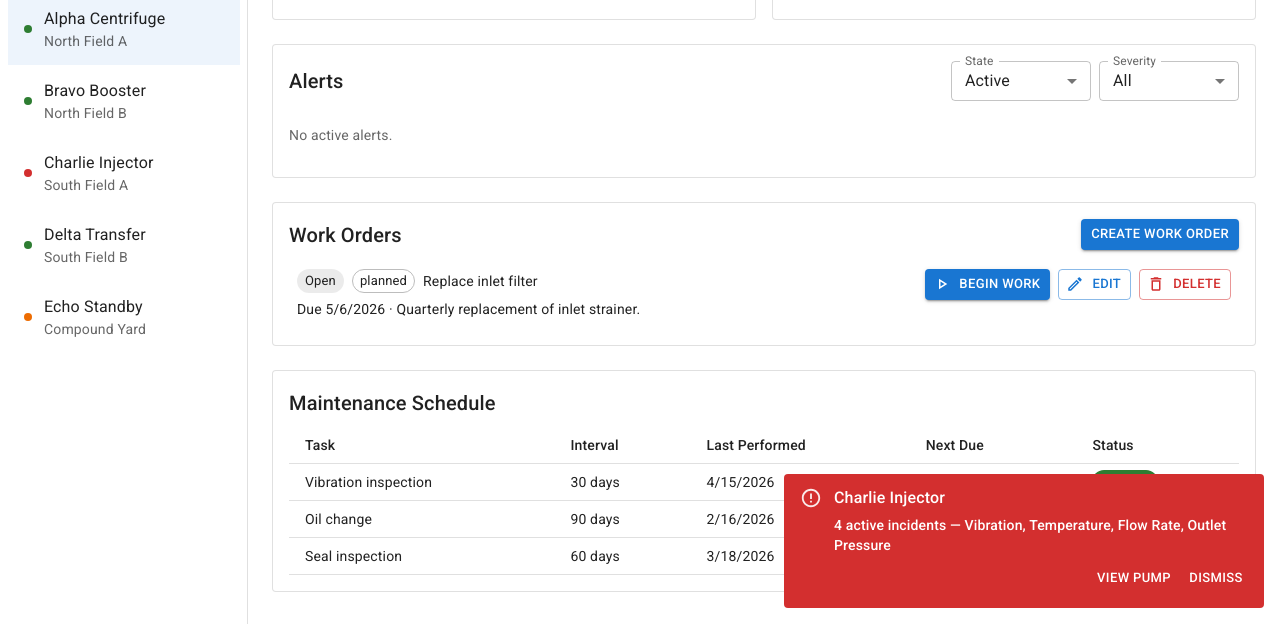
Test: Fleet integration › edits an existing work order
(page scrolled)
Click the button named "edit-".
click(1095, 284)  # box [1058,269,1131,300]
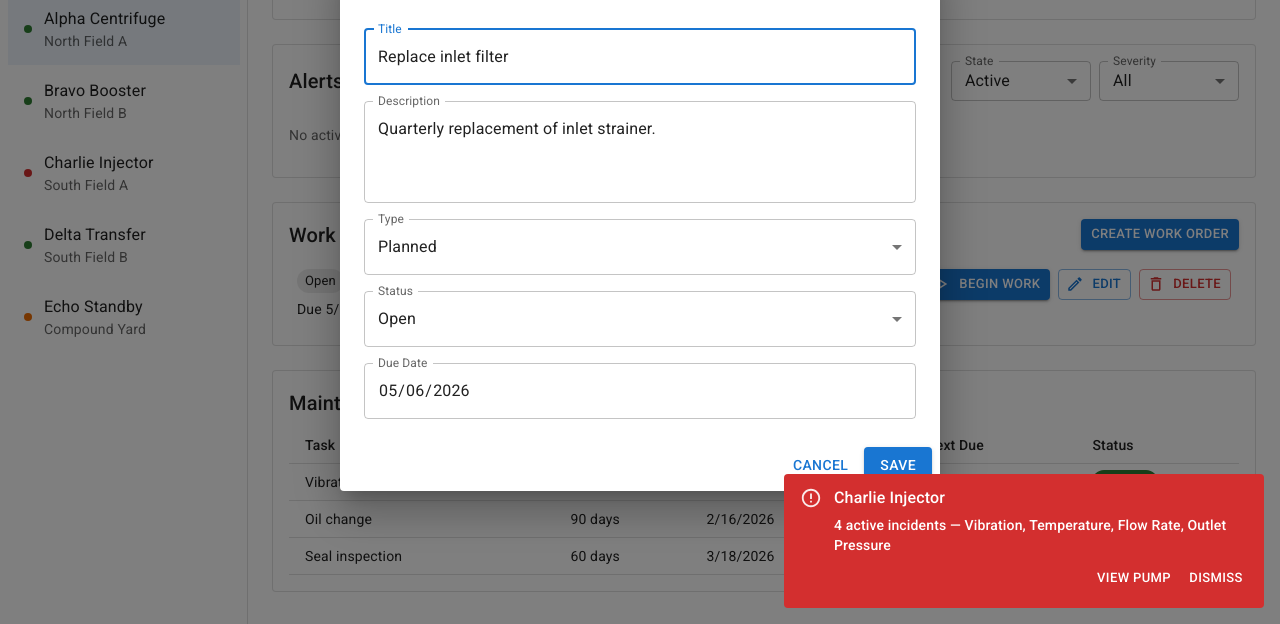
Replace the text in the field named "wo-title" with "Replace inlet filter v2" at (640, 57), box [364,29,916,85]
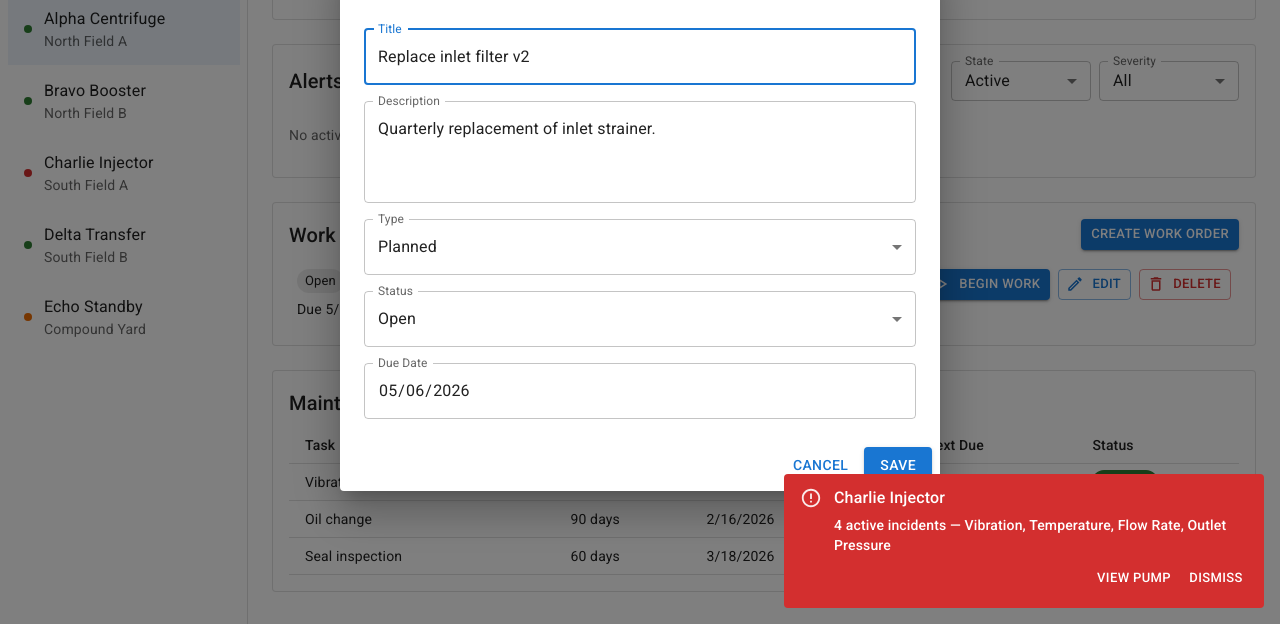
Click the button "Save".
click(898, 465)  # box [864,447,932,483]
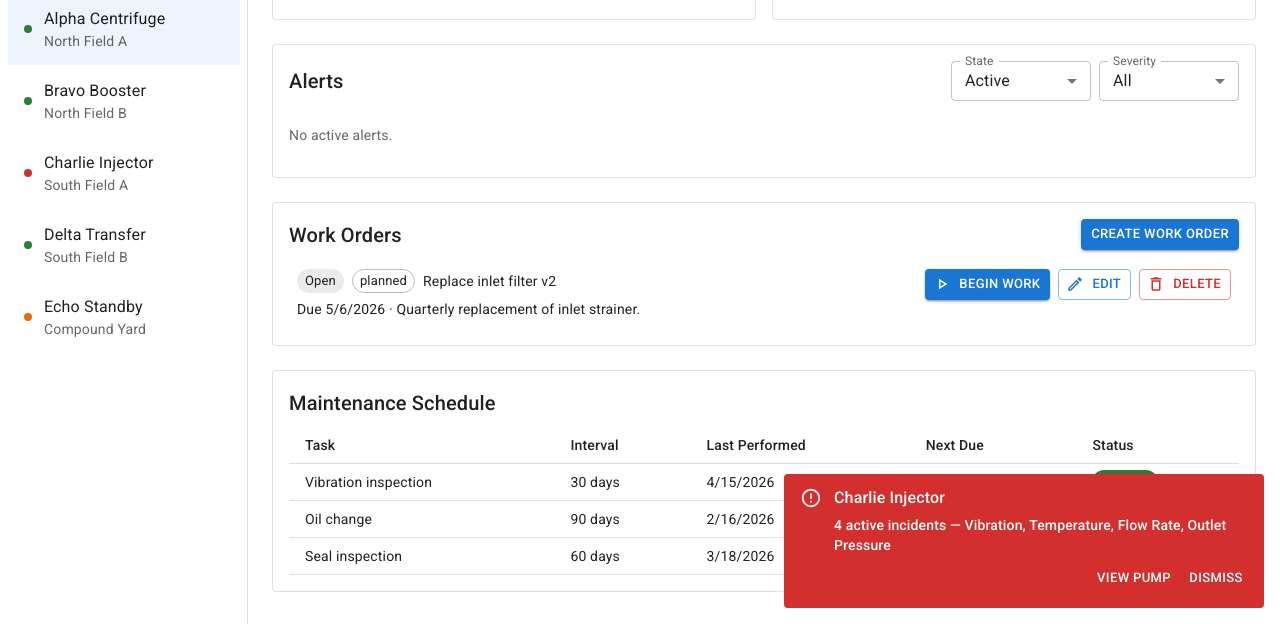
expect the text "Replace inlet filter v2" is shown: met, box [423,271,556,291]
